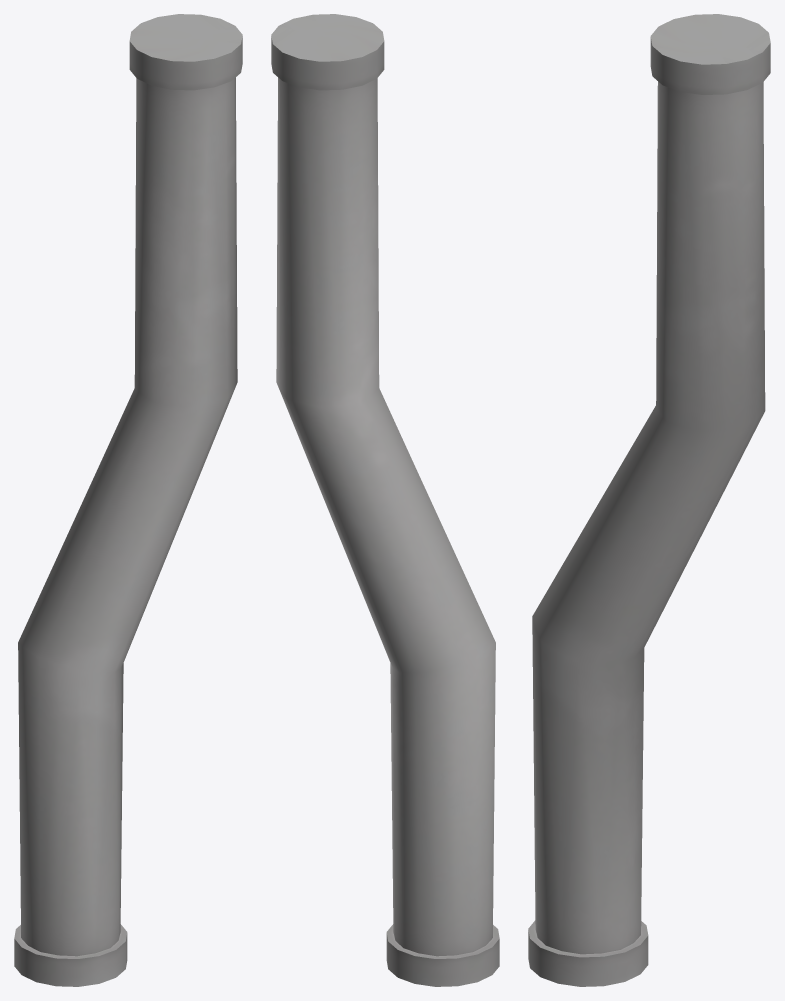
File: PipeS.fbx
3 views of the same model, side by side, from view 1: azimuth 30°, elevation 25°; view 2: azimuth 150°, elevation 25°; view 3: azimuth 330°, elevation 25° (orthographic). The views are drawn at different scales.
Visible parts, largest first — view 1: Mat_Pipe_01; view 2: Mat_Pipe_01; view 3: Mat_Pipe_01.
Boxes of the visible parts, box(x1,y1,x2,y2) form: Mat_Pipe_01: box(14, 14, 242, 986); Mat_Pipe_01: box(271, 14, 499, 986); Mat_Pipe_01: box(528, 14, 770, 986).
Bounding box in the file's own units: 0.7497 × 3.01 × 0.3455.
1 material, 1 textured.
